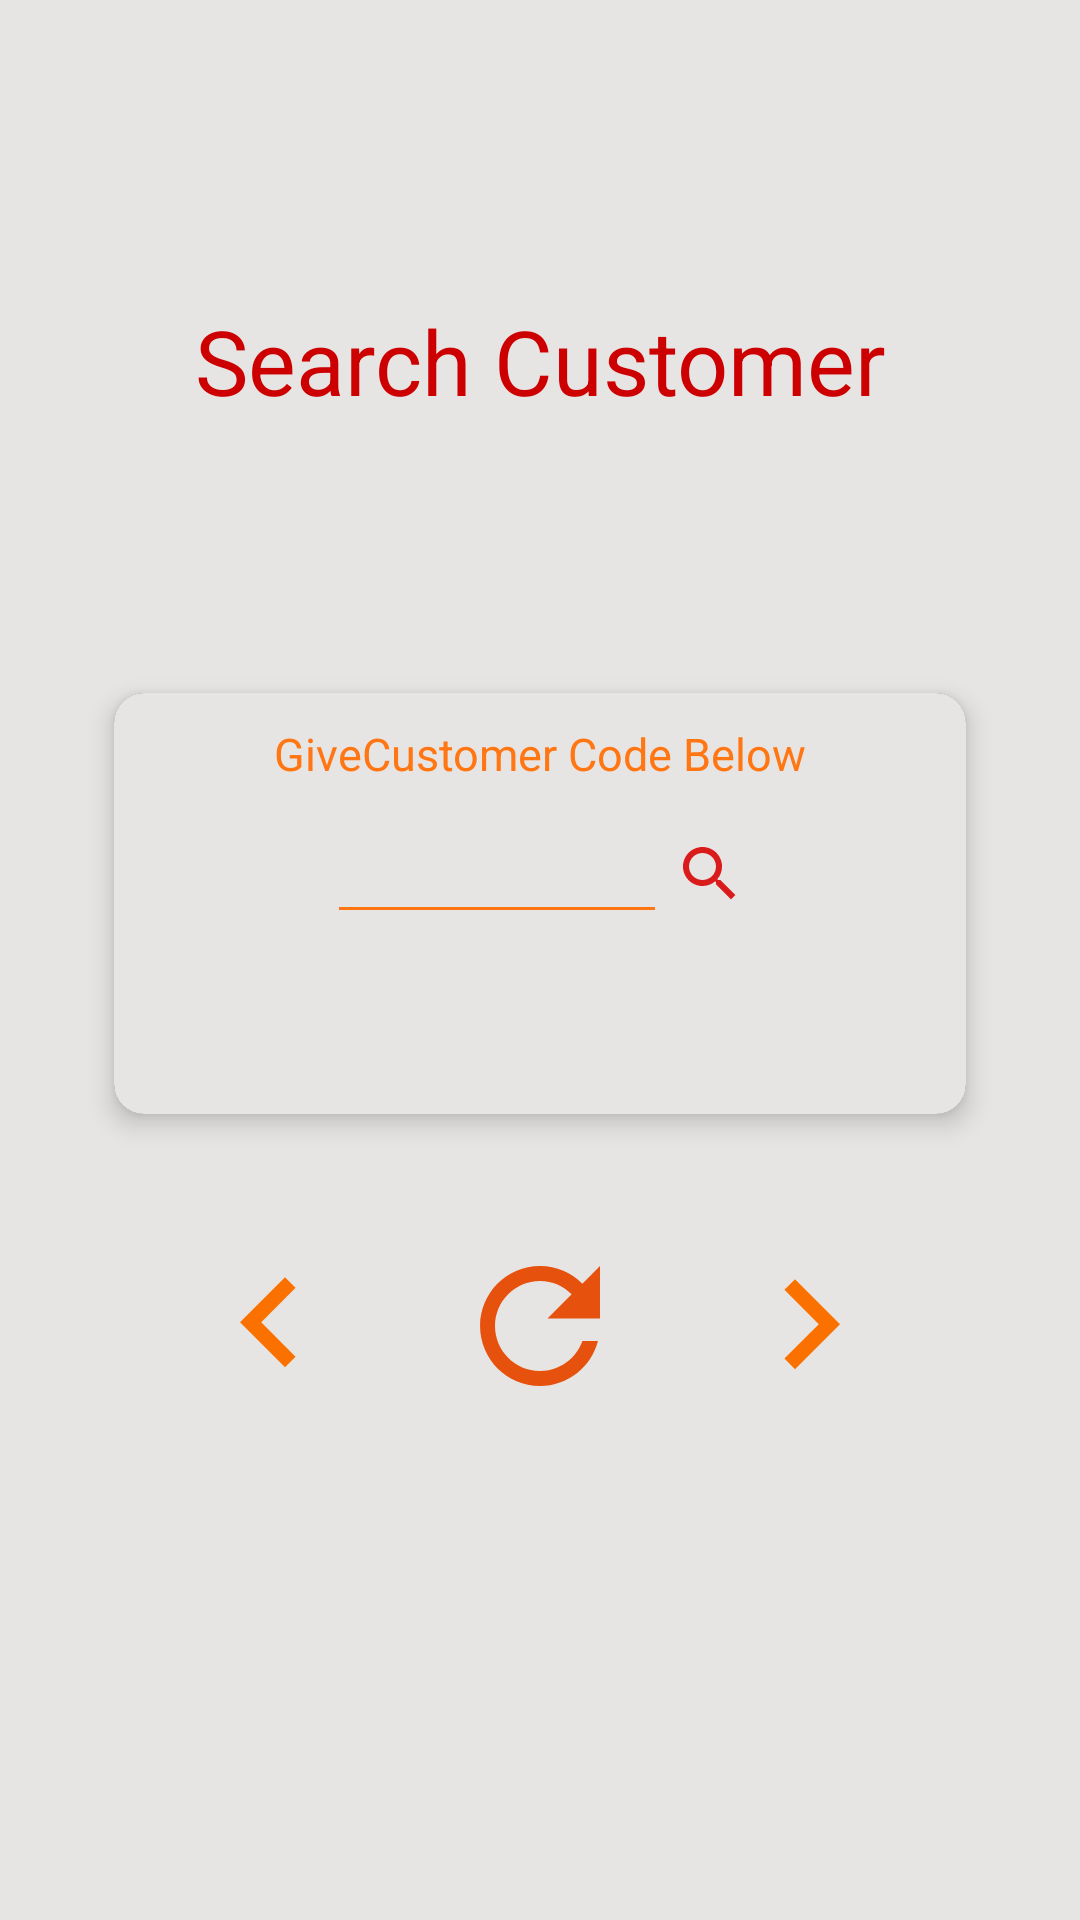

Locate icon controls on the screen. Image size 1080px×1920px, boxes as box(x1, y1, x2, y2).
backword: box(240, 1277, 296, 1367)
forward arrow: box(784, 1279, 840, 1369)
refresh: box(480, 1266, 600, 1386)
search: box(683, 847, 735, 899)
